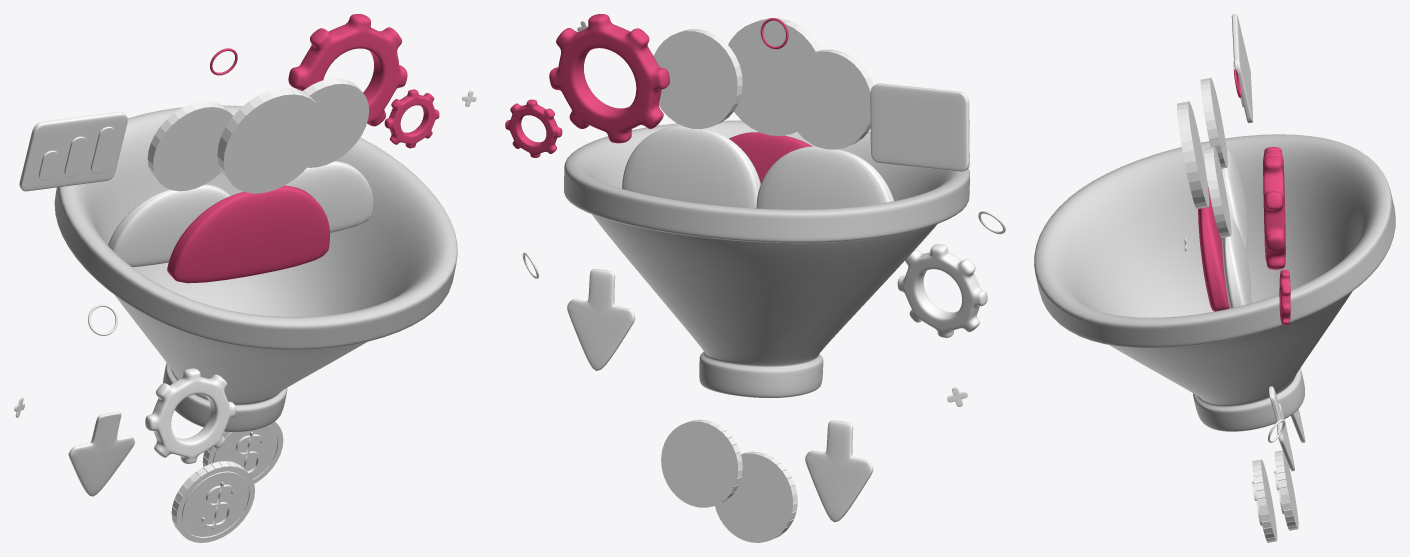
Rendered from conversion-rate-3d-animated-icon-494559921925.glb.
3 renders of one model, left to right at view 1: azimuth 30°, elevation 25°; view 2: azimuth 150°, elevation 25°; view 3: azimuth 270°, elevation 25°, orthographic. The views are drawn at different scales.
Parts seen in each view (by area): view 1: Conversion Funnel, Conversion Funnel.002, Conversion Funnel.2, Gear.001, Conversion Funnel.3, Conversion Funnel.003, Frame, Conversion Funnel.004, Gear.003, Conversion Funnel.007, Conversion Funnel.7, Conversion Funnel.001 (+5 smaller); view 2: Conversion Funnel, Conversion Funnel.007, Gear.001, Frame, Conversion Funnel.3, Conversion Funnel.7, Conversion Funnel.003, Conversion Funnel.2, Conversion Funnel.005, Conversion Funnel.004, Gear.003, Conversion Funnel.006 (+3 smaller); view 3: Conversion Funnel, Gear.001, Conversion Funnel.002, Conversion Funnel.2, Conversion Funnel.007, Conversion Funnel.7, Conversion Funnel.3, Conversion Funnel.003, Conversion Funnel.004, Frame, Conversion Funnel.005, Conversion Funnel.006 (+1 smaller).
Boxes of the visible parts, box(x1,y1,x2,y2) form: Conversion Funnel: box(54, 105, 457, 431); Conversion Funnel.002: box(167, 185, 329, 283); Conversion Funnel.2: box(217, 87, 325, 193); Gear.001: box(288, 14, 407, 126); Conversion Funnel.3: box(147, 101, 232, 191); Conversion Funnel.003: box(108, 184, 230, 266); Frame: box(19, 111, 127, 191); Conversion Funnel.004: box(171, 461, 254, 542); Gear.003: box(145, 368, 235, 463); Conversion Funnel.007: box(285, 161, 373, 232); Conversion Funnel.7: box(303, 78, 369, 167); Conversion Funnel.001: box(68, 411, 134, 496); Conversion Funnel: box(564, 120, 969, 397); Conversion Funnel.007: box(622, 126, 760, 208); Gear.001: box(549, 14, 669, 143); Frame: box(870, 83, 969, 171); Conversion Funnel.3: box(784, 49, 873, 149); Conversion Funnel.7: box(653, 29, 742, 129); Conversion Funnel.003: box(756, 146, 893, 209); Conversion Funnel.2: box(728, 18, 821, 135); Conversion Funnel.005: box(661, 419, 742, 507); Conversion Funnel.004: box(715, 451, 797, 542); Gear.003: box(897, 244, 987, 337); Conversion Funnel.006: box(567, 269, 635, 370); Conversion Funnel: box(1034, 134, 1395, 431); Gear.001: box(1263, 147, 1285, 269); Conversion Funnel.002: box(1198, 187, 1229, 311); Conversion Funnel.2: box(1177, 101, 1209, 209); Conversion Funnel.007: box(1222, 219, 1251, 308); Conversion Funnel.7: box(1204, 146, 1231, 237); Conversion Funnel.3: box(1200, 78, 1227, 168); Conversion Funnel.003: box(1221, 150, 1247, 251); Conversion Funnel.004: box(1252, 459, 1277, 542); Frame: box(1231, 14, 1253, 123); Conversion Funnel.005: box(1274, 450, 1298, 530); Conversion Funnel.006: box(1269, 386, 1294, 471).
Size of the model in its own units: 5.53 by 6.07 by 4.26.
